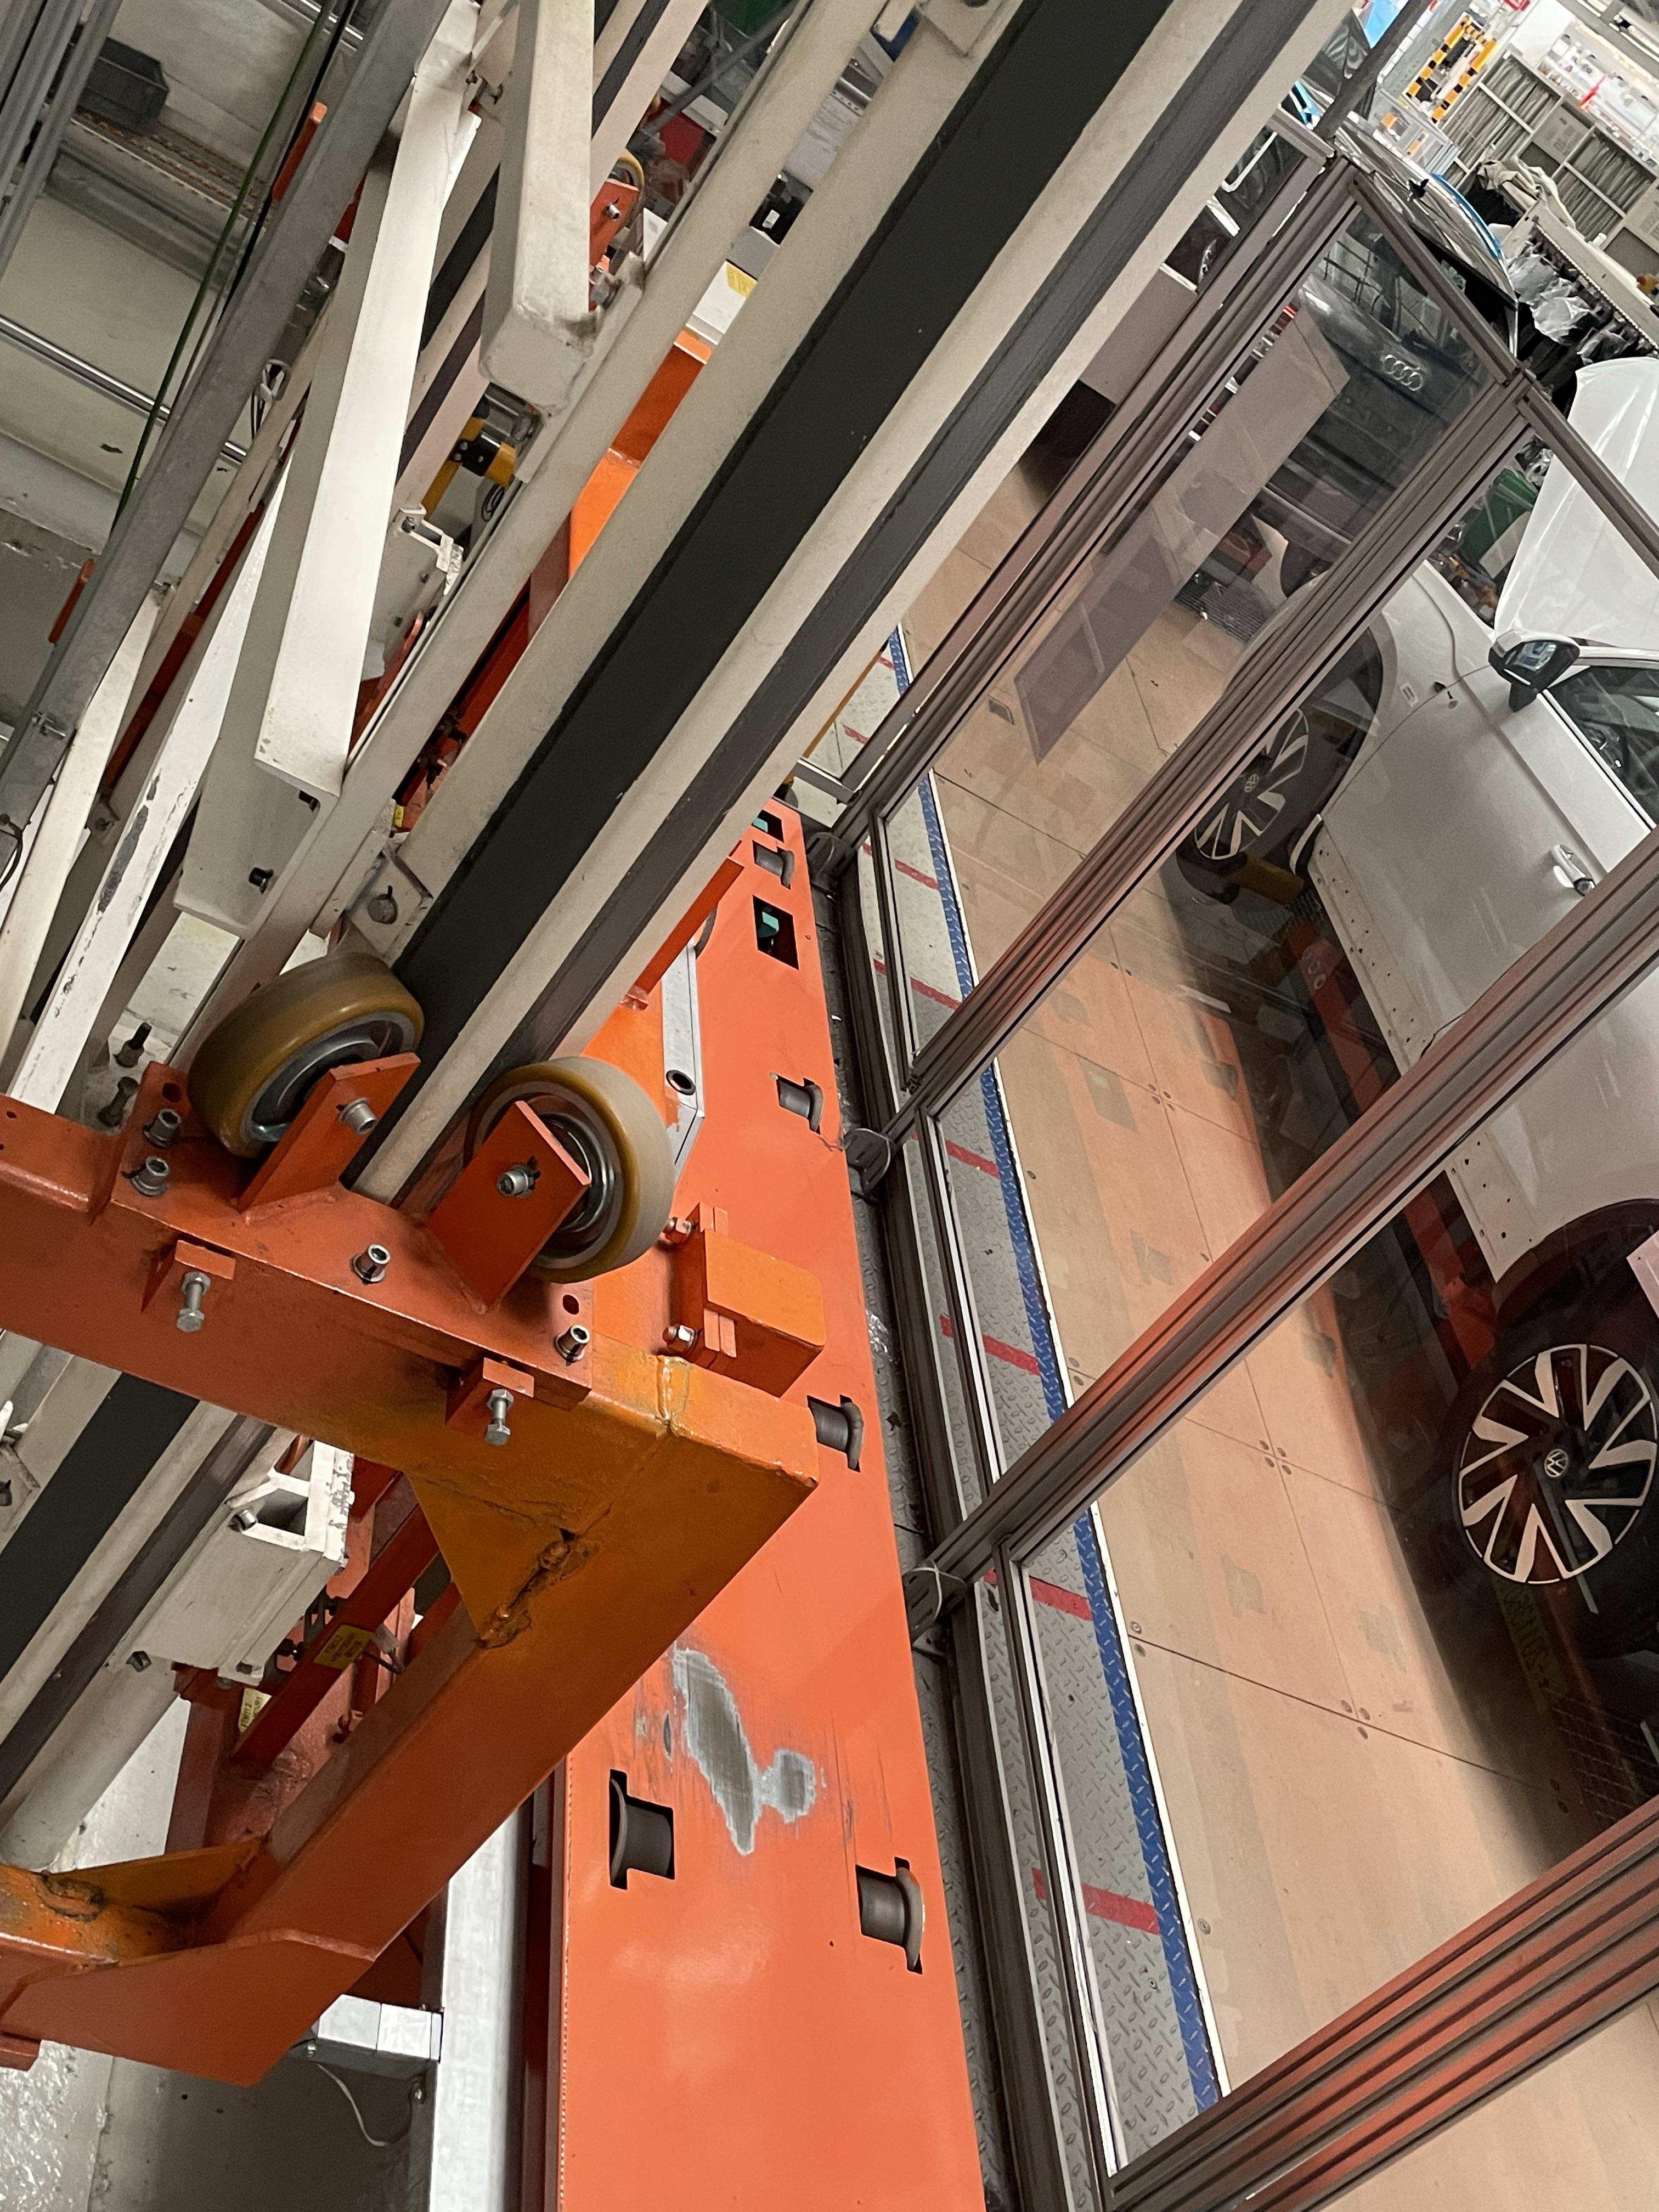good_wheel: (472, 1033, 697, 1312), (223, 918, 429, 1193)
